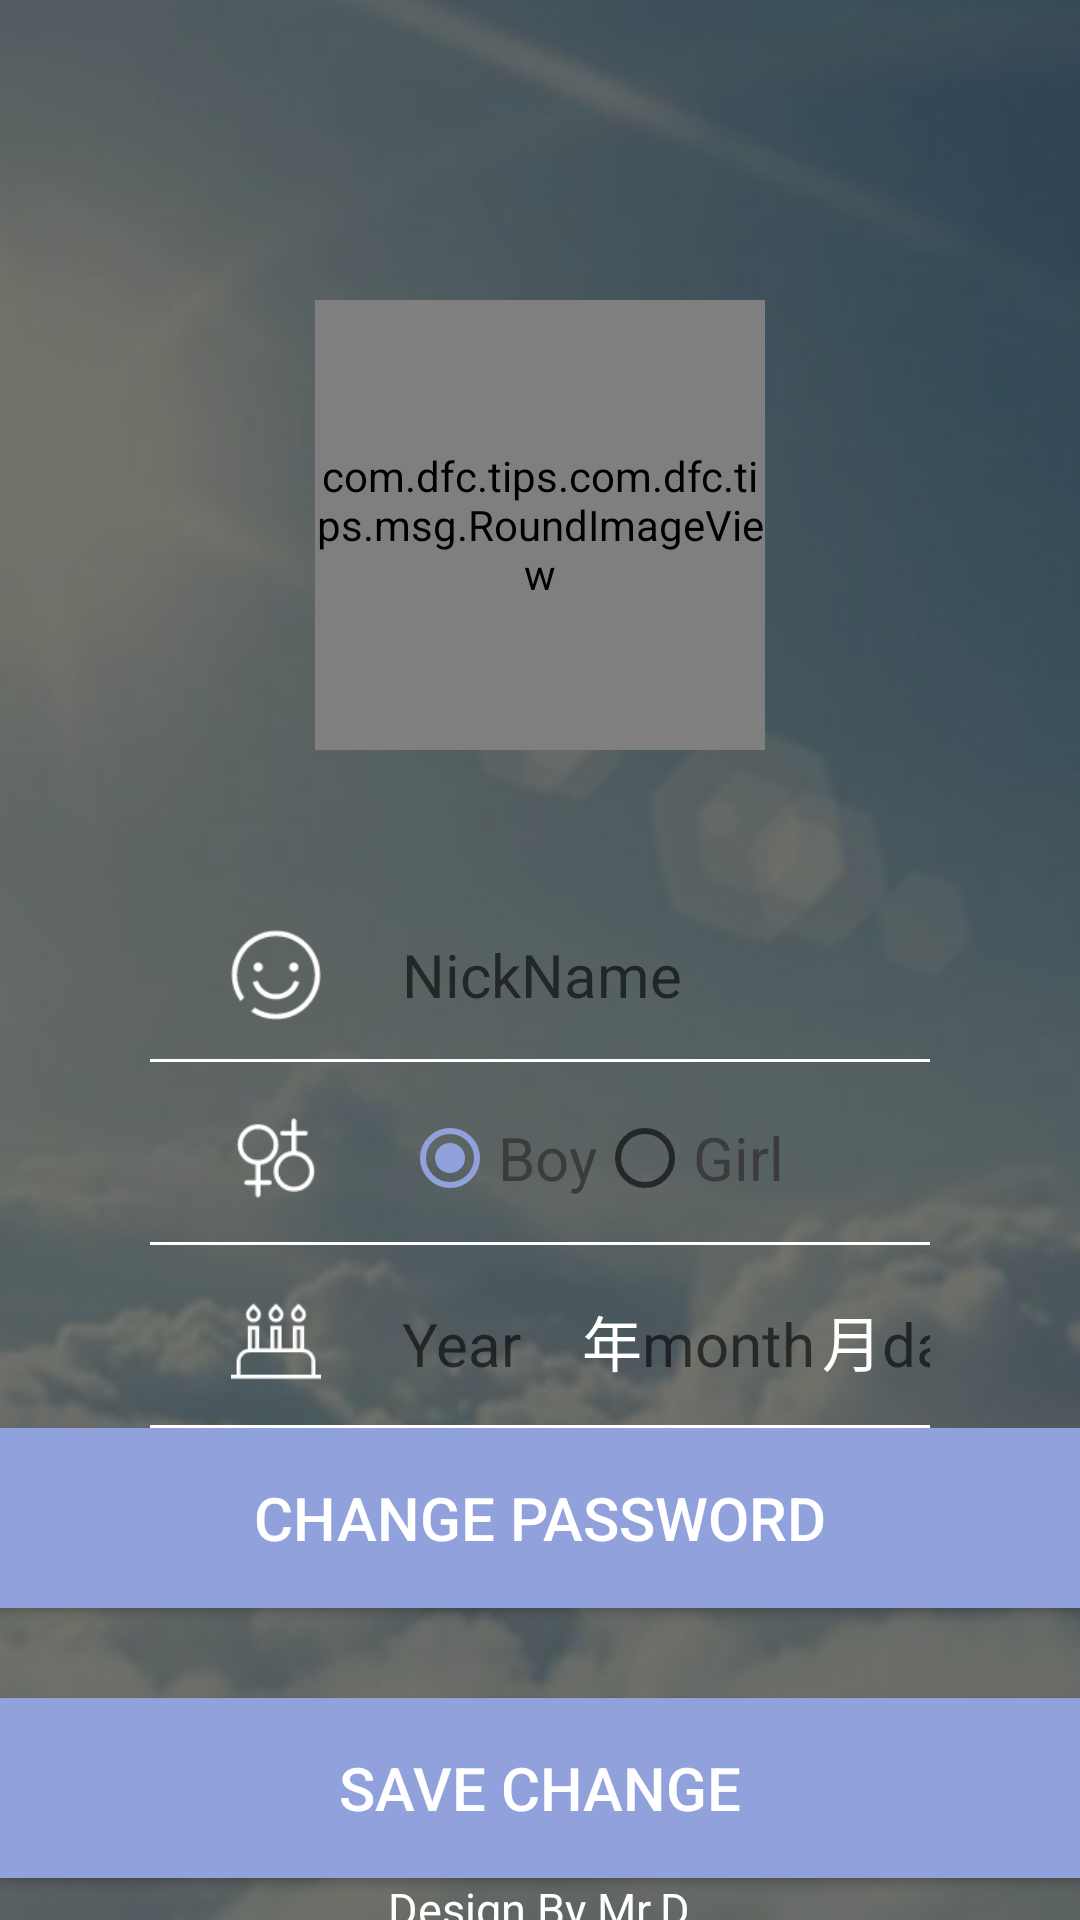

Icons on this 1080px x 1920px Android screen, each with its box as (x1, y1, x2, y2):
birthday: (182, 1303, 321, 1380)
gender: (180, 1113, 320, 1203)
